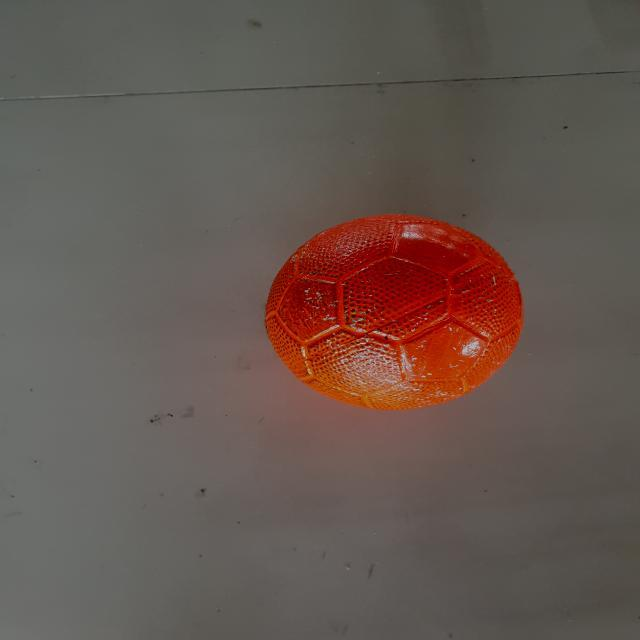bola: (228, 204, 582, 419)
